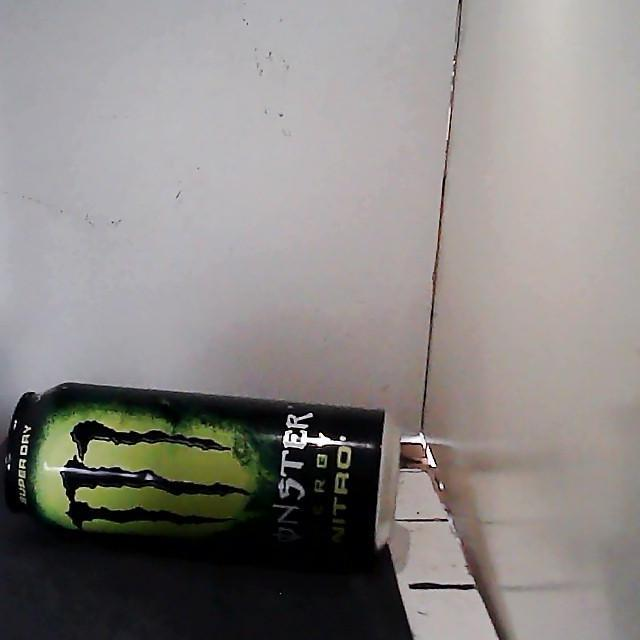metal: (3, 383, 399, 563)
